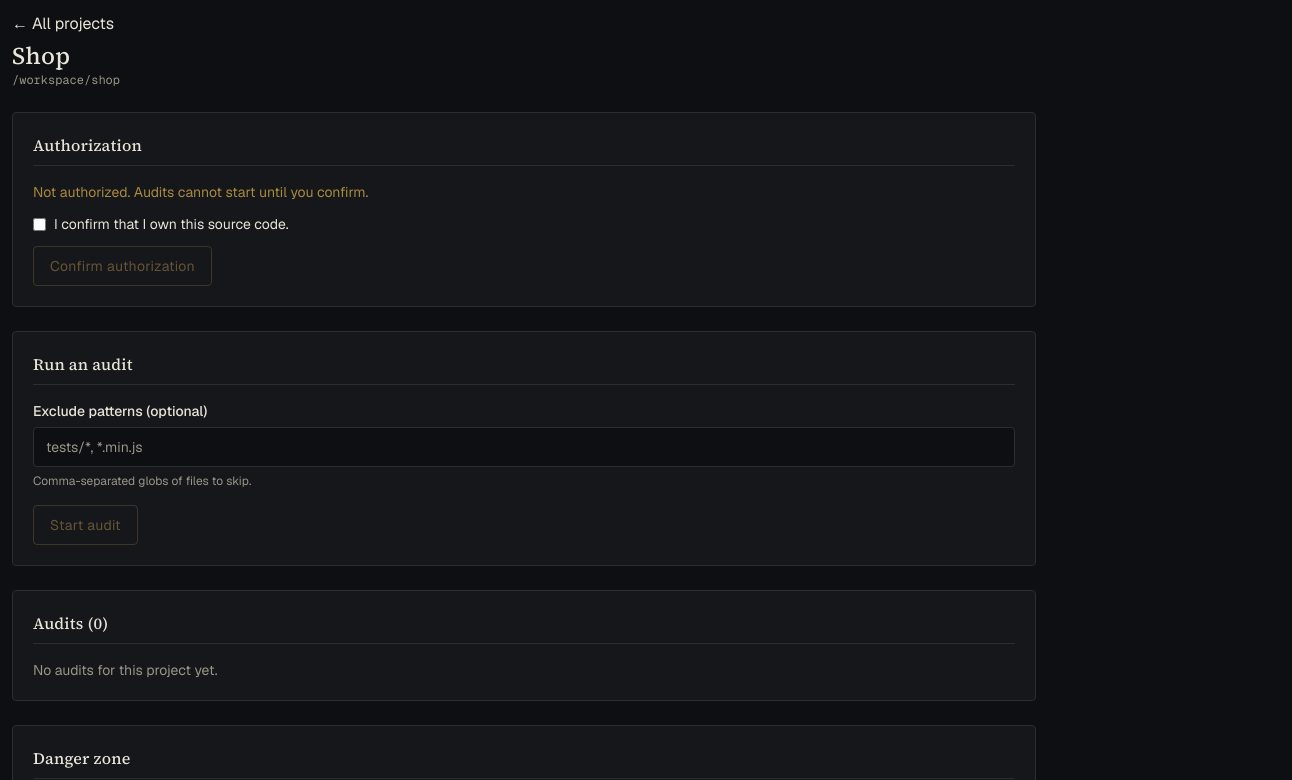
it: ProjectPage › authorizes, then offers revocation and enables audits
Click the checkbox. click: {"x": 40, "y": 224}
box: [33,218,46,231]
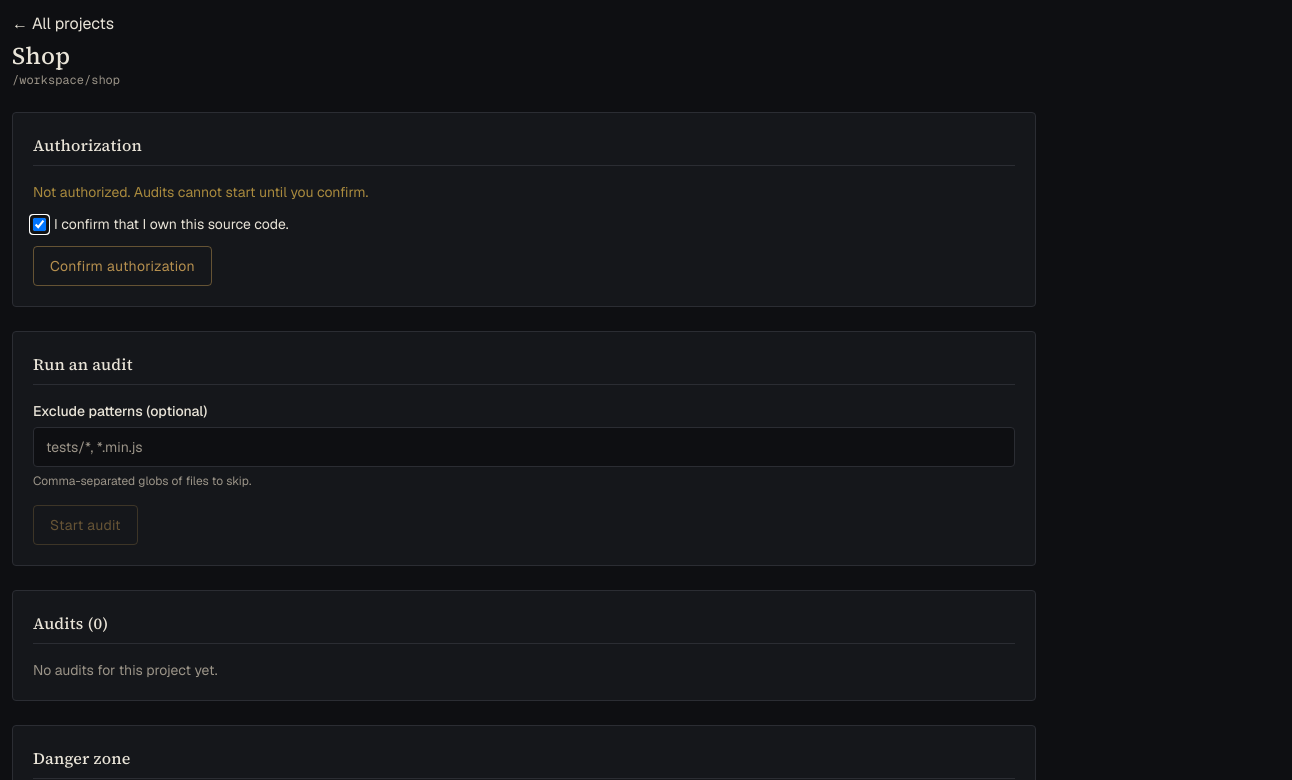
Click the button "Confirm authorization". click: {"x": 122, "y": 266}
box: [33,246,212,286]
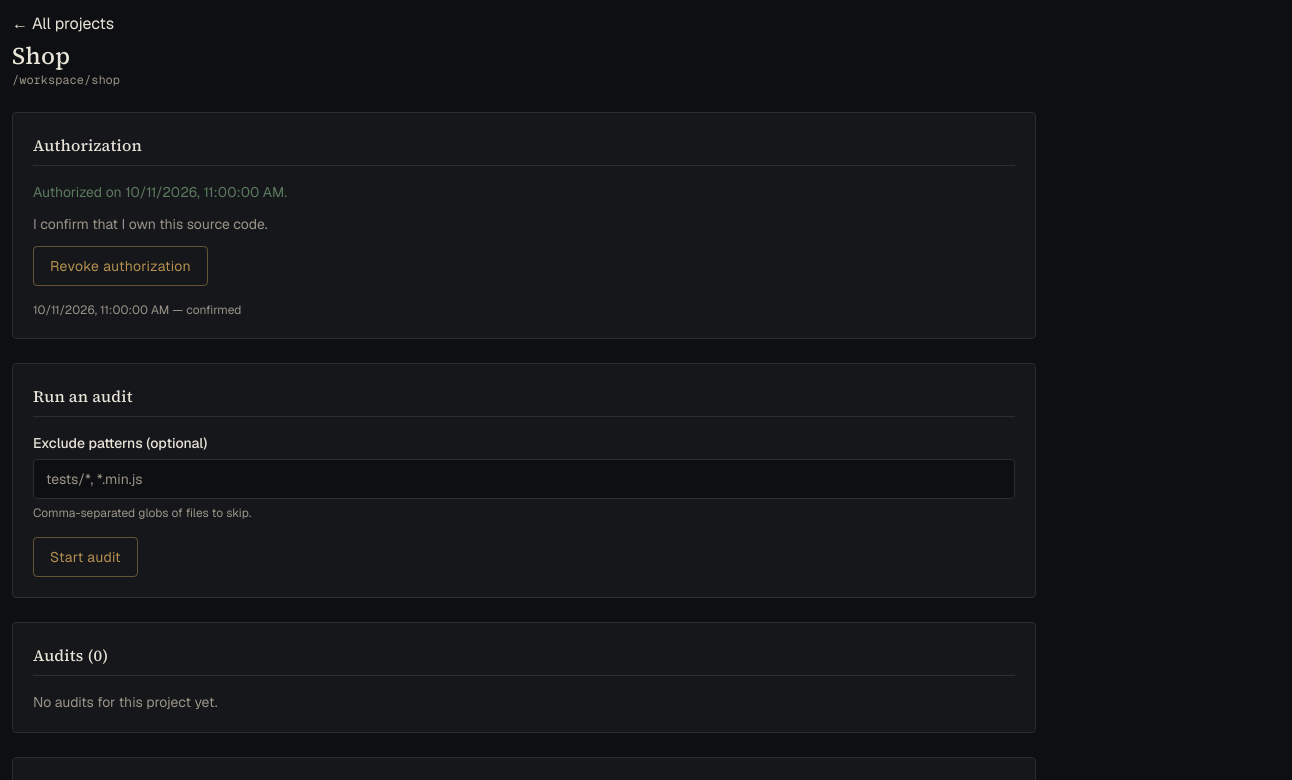
Expected: the button "Revoke authorization" is shown, [33,246,208,286]
Expected: the button "Start audit" is enabled, [33,537,138,577]
